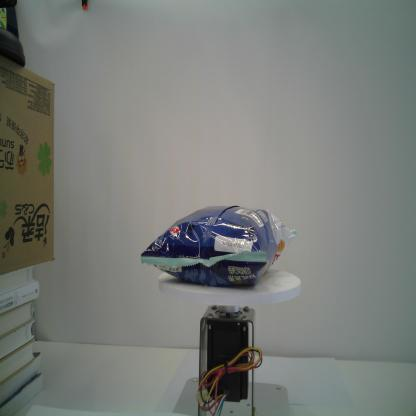Puffed Food: (140, 204, 297, 288)
